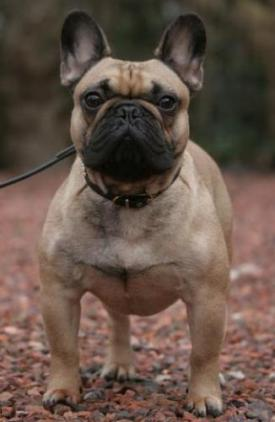dog: (38, 15, 237, 415)
